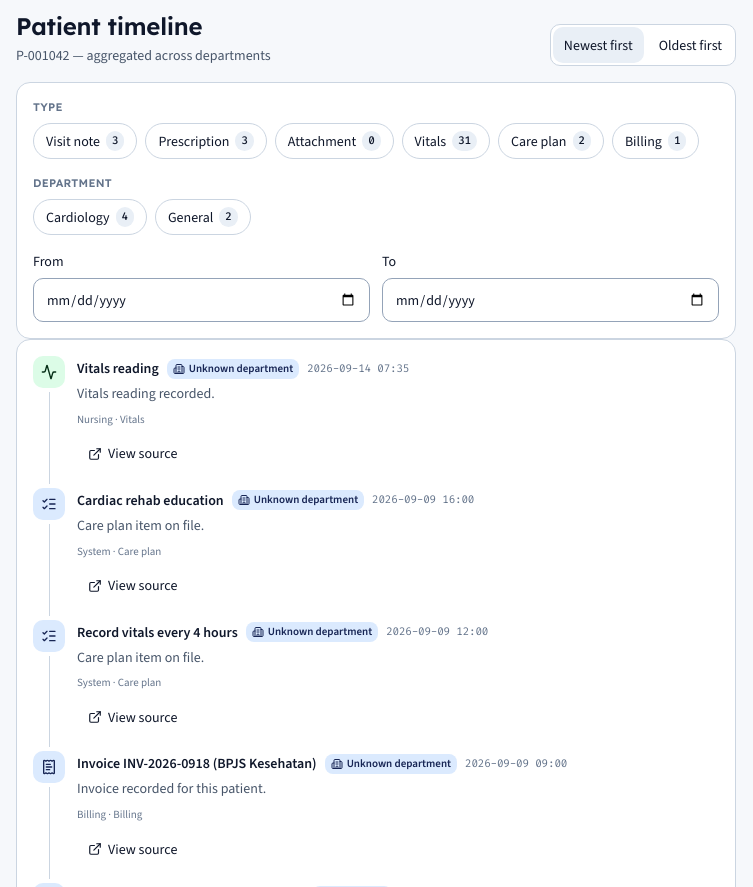
Test case: PatientTimelinePage (#16) › narrows by department filter and shows an empty state for a zero-match filter
General only: prescriptions live under Cardiology for Budi, so they drop out.
Click the button "General 2". click: (203, 217)
box: left=155, top=199, right=251, bottom=235
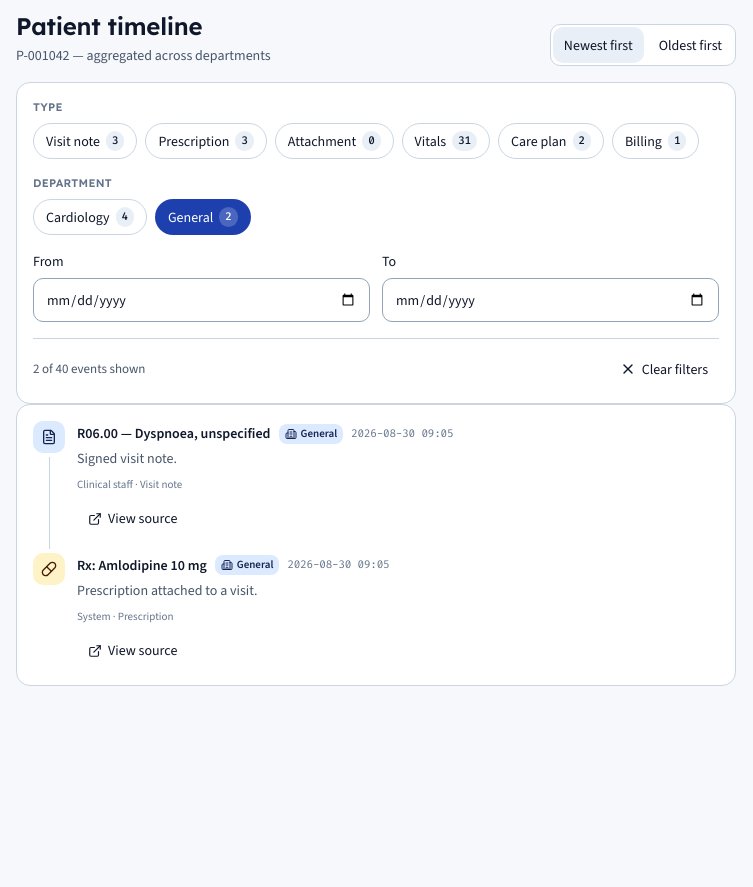
Expected: the text "General" is shown, left=168, top=206, right=213, bottom=228
A date range in the future matches nothing.
Type "2030-01-01" into the date field labelled "From". click: (202, 300)
box: left=33, top=278, right=370, bottom=322
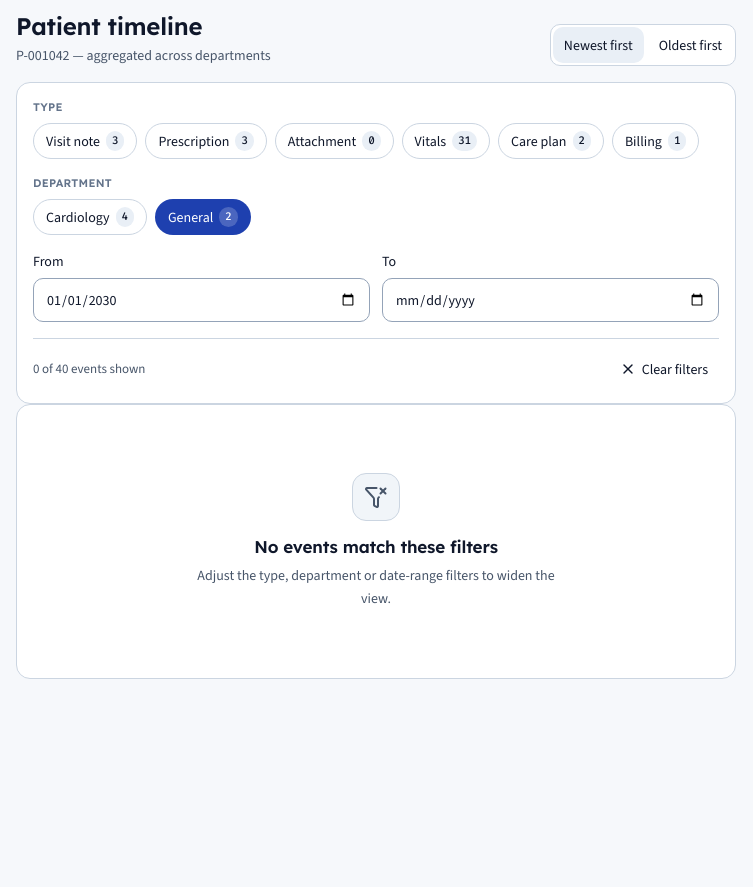
Result: the heading "No events match these filters" is shown at left=254, top=535, right=498, bottom=559
